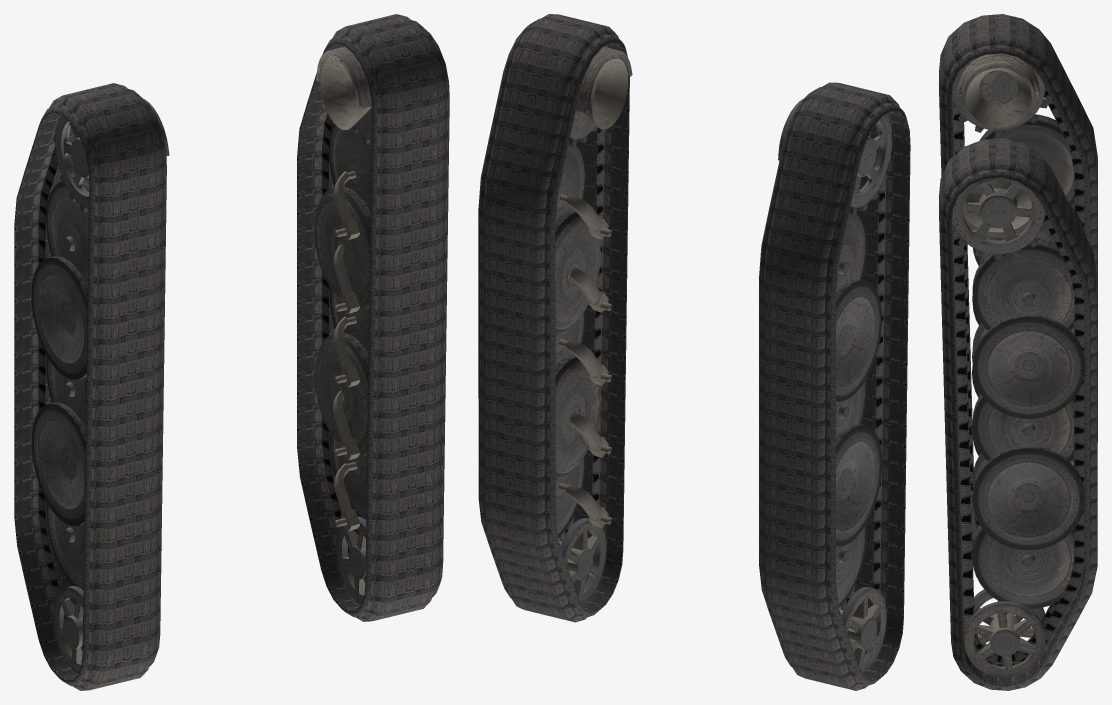
The model's file is Chassis.glb.
3 views of the same model, side by side, from view 1: azimuth 30°, elevation 25°; view 2: azimuth 150°, elevation 25°; view 3: azimuth 270°, elevation 25° (orthographic). The views are drawn at different scales.
Parts seen in each view (by area): view 1: set_3_group_0, set_2_group_0, set_0_group_0, set_1_group_0; view 2: set_3_group_0, set_2_group_0, set_0_group_0, set_1_group_0; view 3: set_0_group_0, set_2_group_0, set_3_group_0, set_1_group_0.
Boxes of the visible parts, bbox=[...] form: set_3_group_0: bbox=[14, 83, 166, 690]; set_2_group_0: bbox=[297, 14, 449, 621]; set_0_group_0: bbox=[314, 45, 371, 604]; set_1_group_0: bbox=[31, 99, 169, 673]; set_3_group_0: bbox=[759, 82, 910, 690]; set_2_group_0: bbox=[478, 14, 629, 622]; set_0_group_0: bbox=[555, 45, 632, 605]; set_1_group_0: bbox=[778, 98, 891, 673]; set_0_group_0: bbox=[952, 177, 1085, 677]; set_2_group_0: bbox=[939, 138, 1097, 690]; set_3_group_0: bbox=[939, 14, 1097, 546]; set_1_group_0: bbox=[952, 53, 1084, 540].
Bounding box in the file's own units: 3.1 × 4.86 × 1.32.
4 materials, 4 textured.
